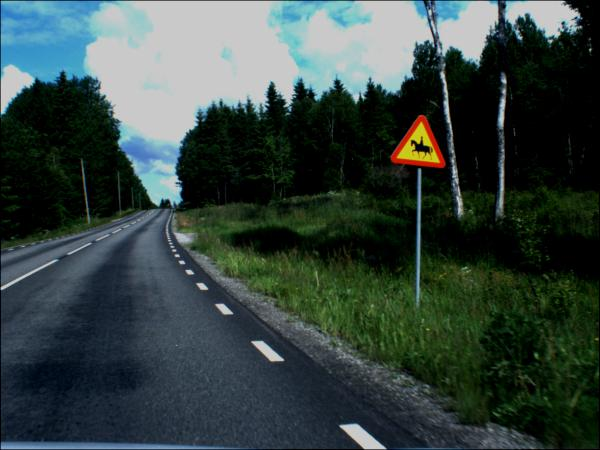WARNING: (391, 116, 447, 172)
